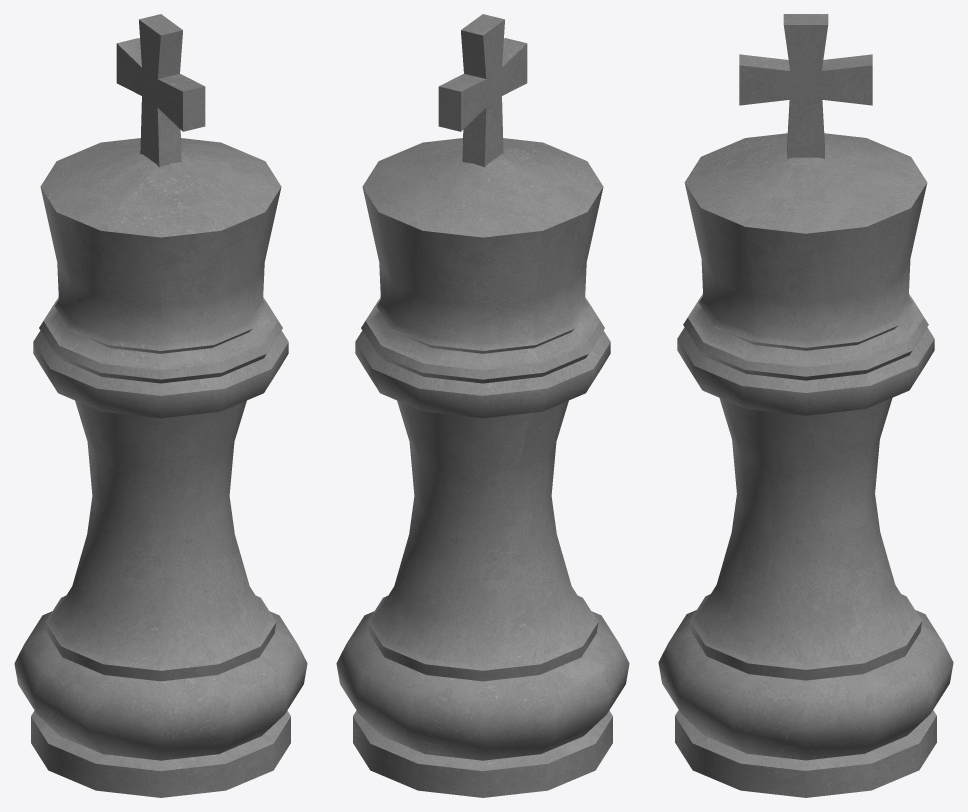
The model's file is SKing.obj.
3 renders of one model, left to right at view 1: azimuth 30°, elevation 25°; view 2: azimuth 150°, elevation 25°; view 3: azimuth 270°, elevation 25°, orthographic.
Parts seen in each view (by area): view 1: King.001; view 2: King.001; view 3: King.001.
Part boxes in pixels (x1,y1,x2,y2): King.001: (14,14,307,797); King.001: (336,14,629,797); King.001: (658,14,953,797).
Bounding box in the file's own units: 0.1964 × 0.5309 × 0.1964.
Materials: 1 (1 with a texture image).
